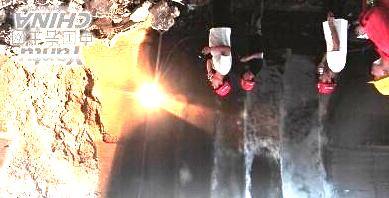helmet: (366, 62, 389, 96), (208, 70, 232, 96), (315, 71, 338, 95), (239, 70, 256, 91)
